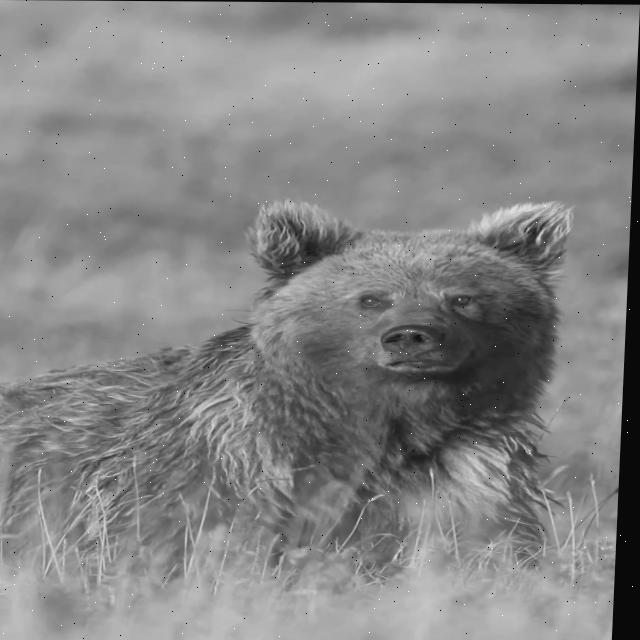Bear: (0, 195, 577, 597)
